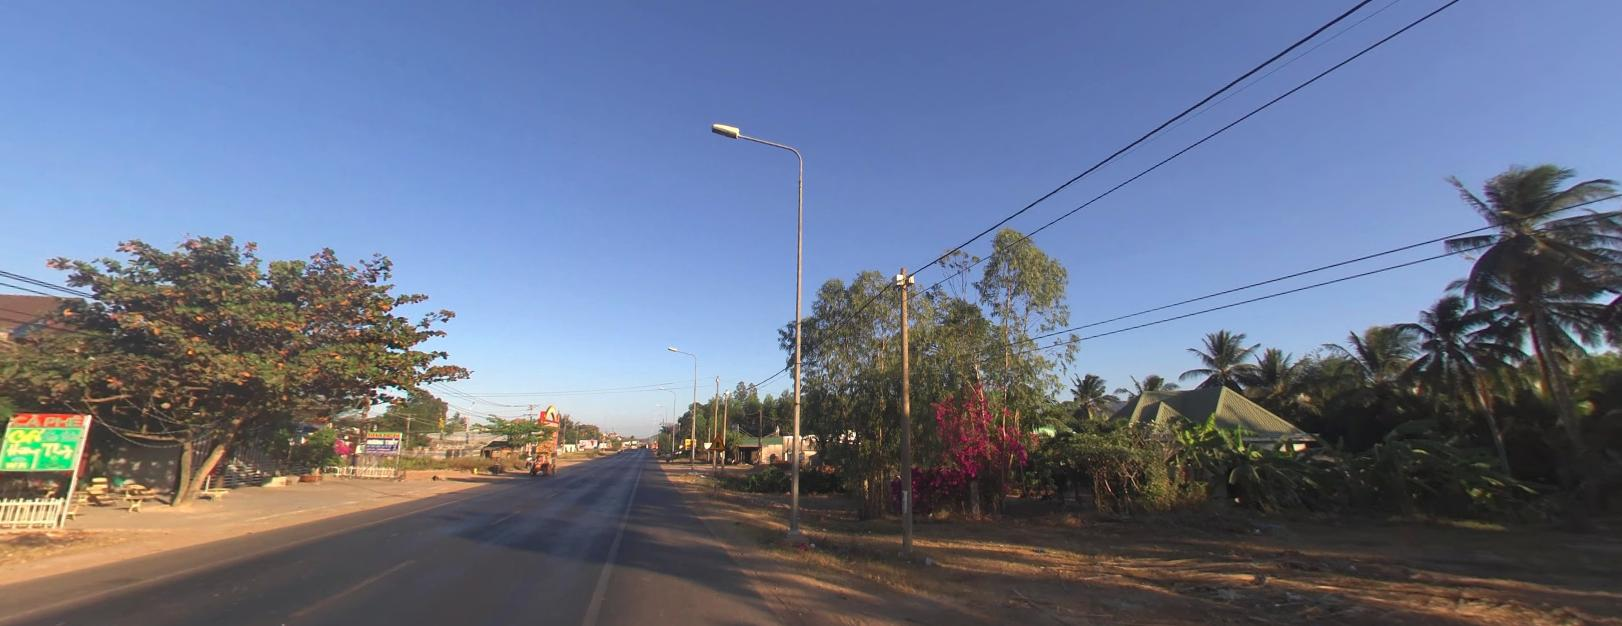Nguy hiem: (708, 433, 725, 449)
